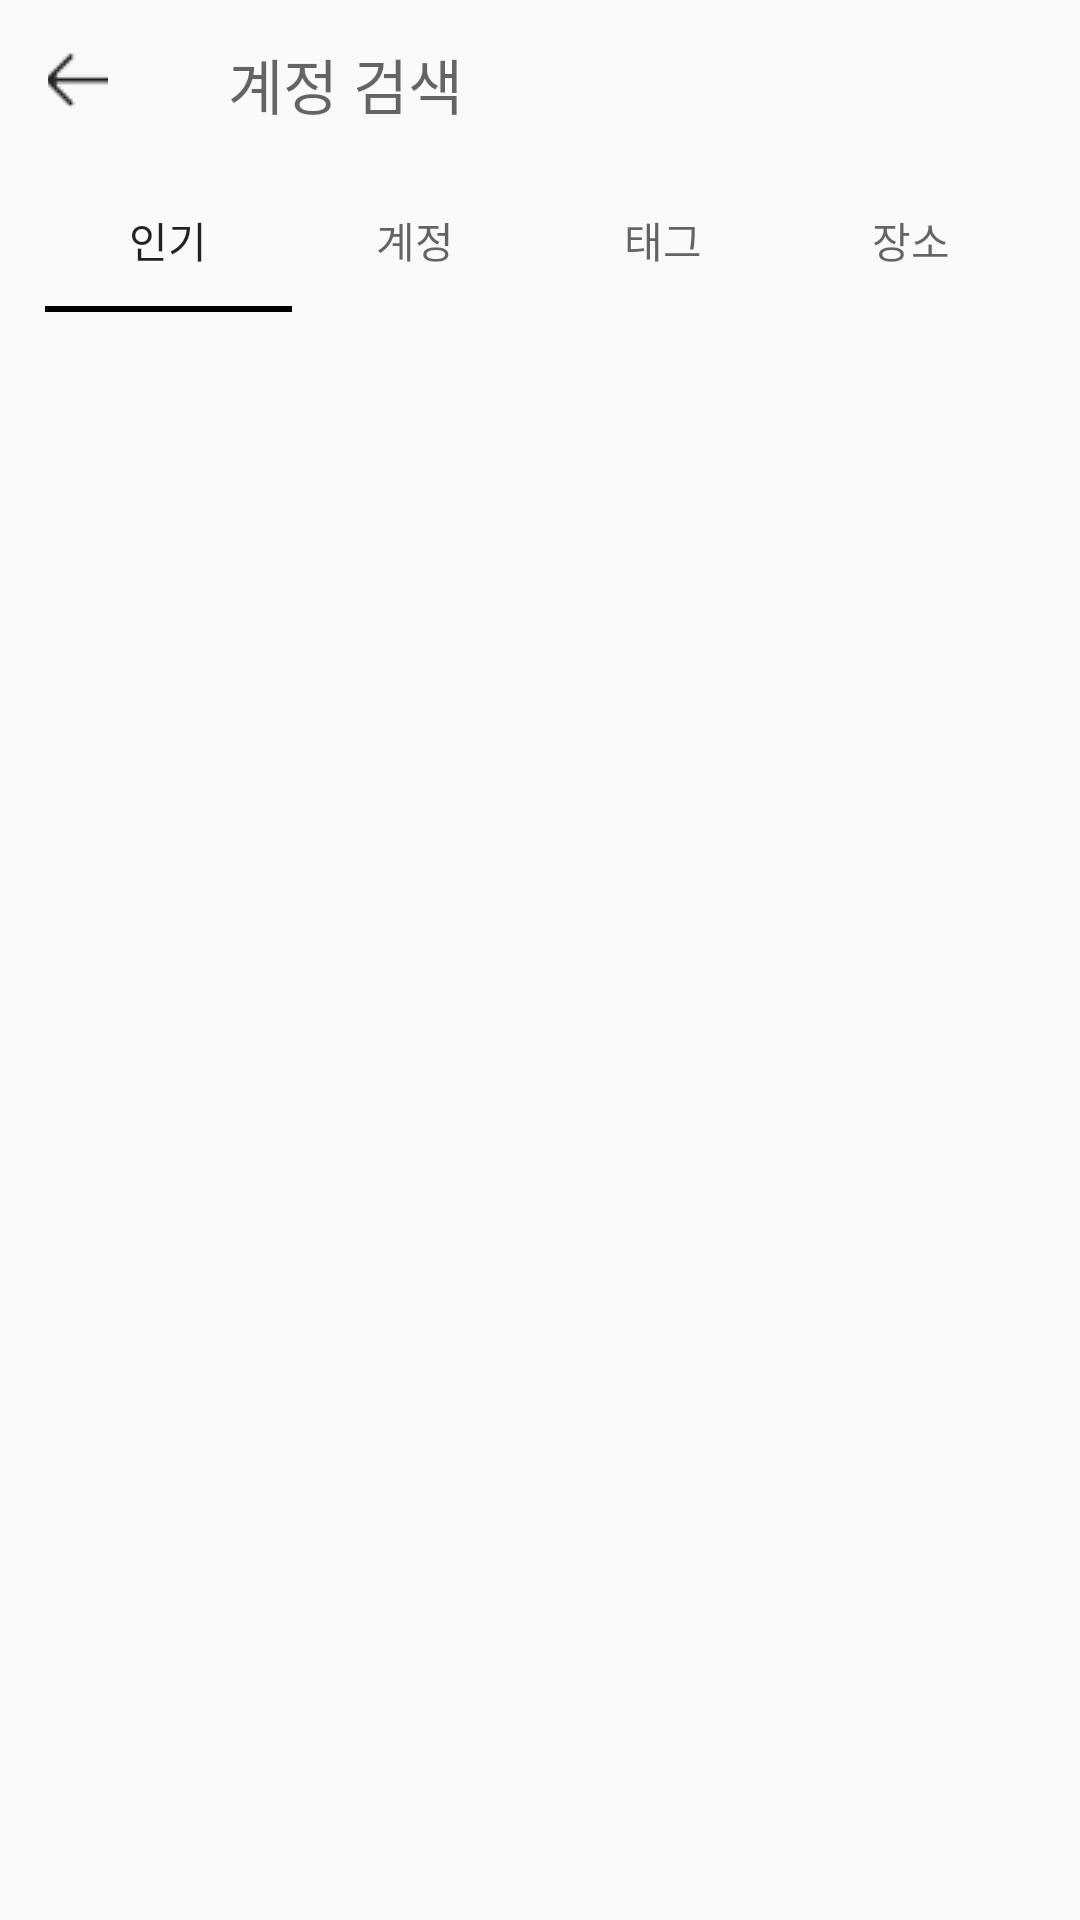

Named icons in this screenshot (1080px x 1920px) and their bounding boxes, bbox=[x1, y1, x2, y2]:
back arrow: bbox=[48, 53, 108, 106]
